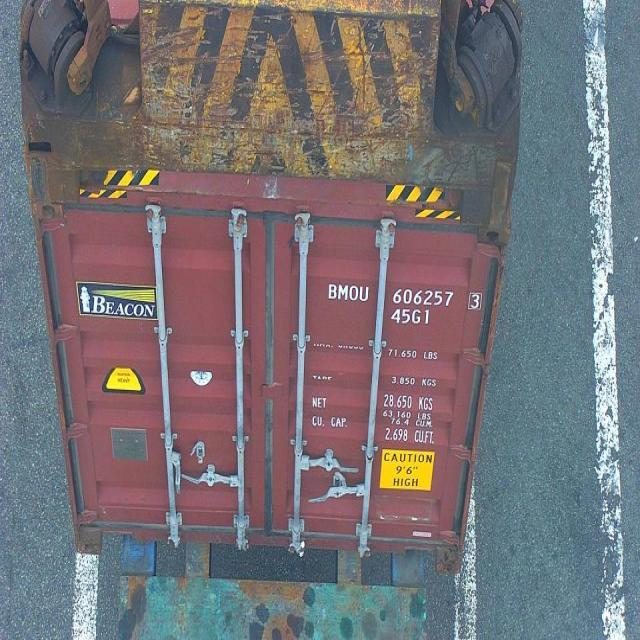ISO: (393, 306, 431, 324)
container_number: (328, 282, 482, 313)
